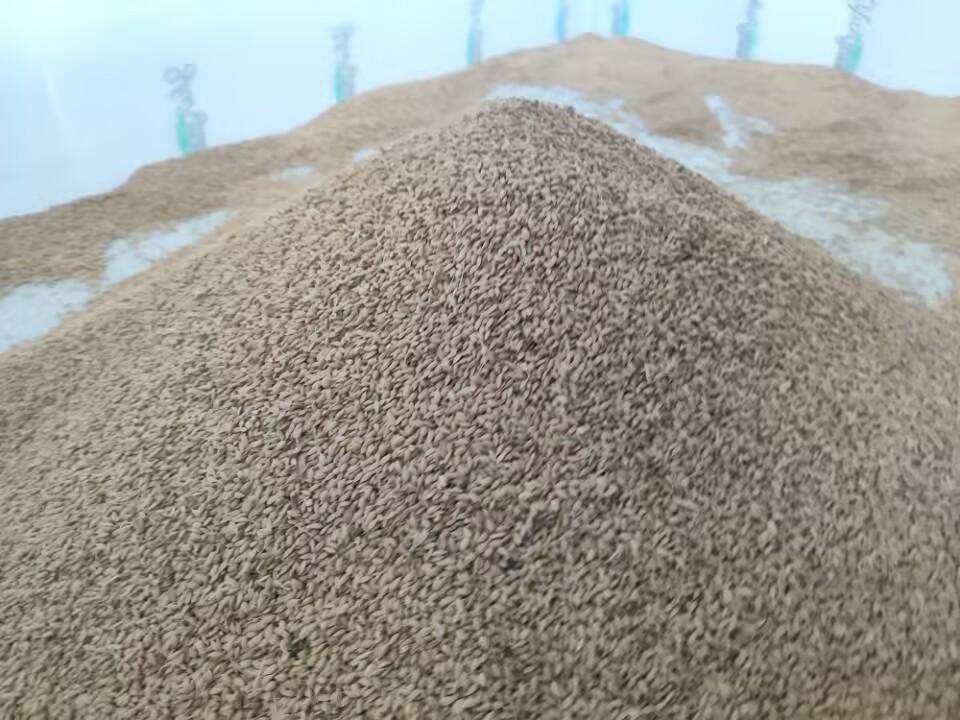Grain: (105, 45, 883, 691)
